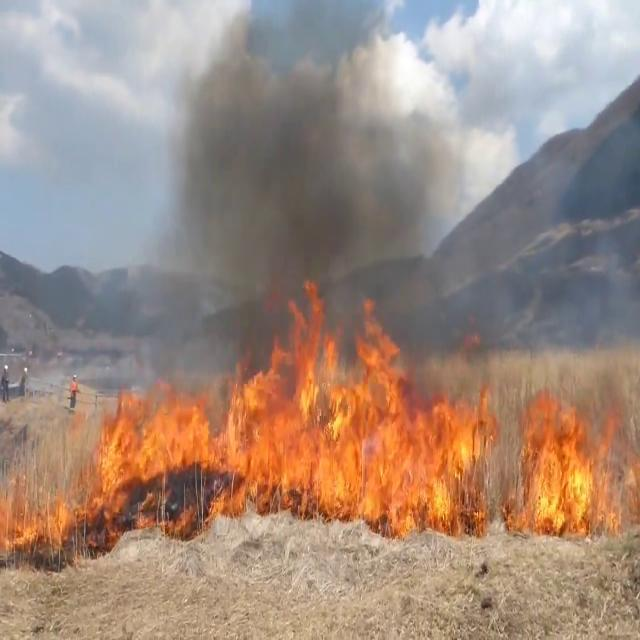Fire: (12, 284, 490, 558), (509, 389, 637, 537)
Smoke: (124, 2, 472, 386)
